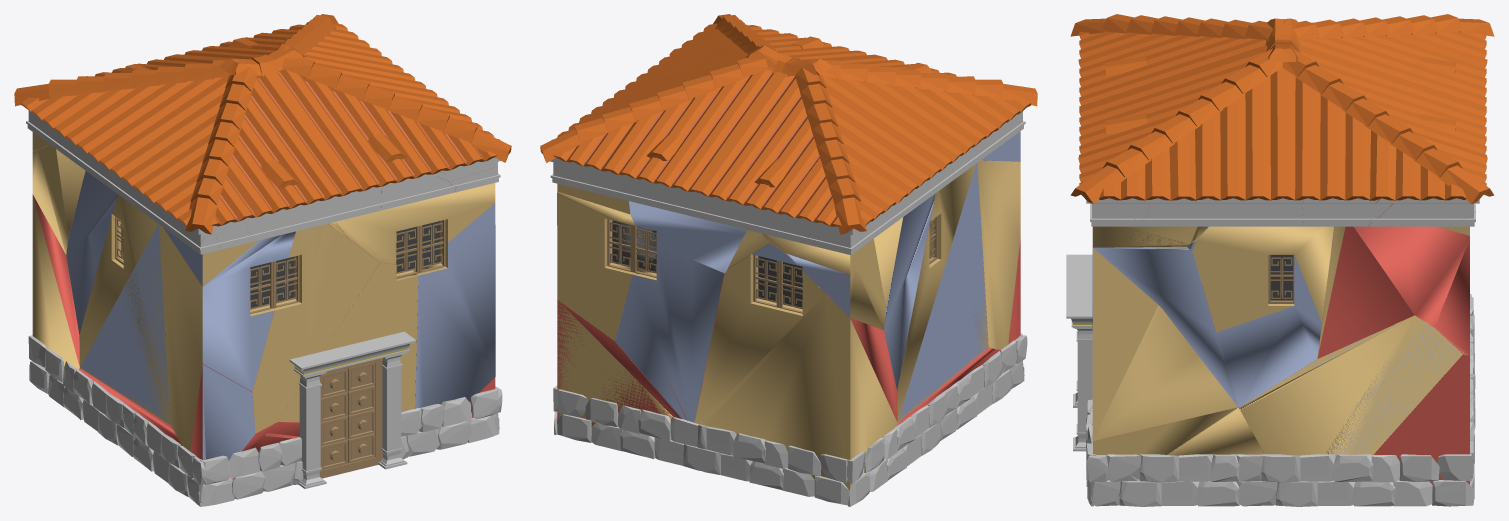
File: Villa_roman_03_fragments.fbx
The picture shows the model from 3 angles, left to right: view 1: azimuth 30°, elevation 25°; view 2: azimuth 150°, elevation 25°; view 3: azimuth 270°, elevation 25°; orthographic projection. The views are drawn at different scales.
Parts seen in each view (by area): view 1: Object245_cell.019, Object245_cell, Object245_cell.008, Object245_cell.026, Object245_cell.004, Object245.093, Object245_cell.014, Object245_cell.010, Object245_cell.023, Object245.240, Object245_cell.020, Object245.241 (+60 smaller); view 2: Object245_cell.010, Object245_cell, Object245_cell.012, Object245_cell.011, Object245_cell.005, Object245_cell.019, Object245.240, Object245_cell.020, Object245_cell.007, Object245_cell.024, Object245.249, Object245.202 (+63 smaller); view 3: Object245_cell.008, Object245_cell.027, Object245_cell.025, Object245_cell.006, Object245.202, Object245_cell.009, Object245_cell.005, Object245_cell.001, Object245.042_cell.001, Object245.214, Object245.203, Object245.240 (+71 smaller).
Boxes of the visible parts, bbox=[...] form: Object245_cell.019: bbox=[159, 225, 295, 451]; Object245_cell: bbox=[79, 194, 170, 425]; Object245_cell.008: bbox=[413, 203, 495, 408]; Object245_cell.026: bbox=[252, 224, 379, 432]; Object245_cell.004: bbox=[278, 262, 418, 422]; Object245.093: bbox=[319, 358, 382, 478]; Object245_cell.014: bbox=[336, 183, 495, 264]; Object245_cell.010: bbox=[32, 194, 165, 376]; Object245_cell.023: bbox=[190, 364, 255, 460]; Object245.240: bbox=[99, 59, 342, 199]; Object245_cell.020: bbox=[66, 171, 123, 334]; Object245.241: bbox=[110, 93, 325, 204]; Object245_cell.010: bbox=[694, 255, 897, 490]; Object245_cell: bbox=[897, 163, 988, 422]; Object245_cell.012: bbox=[615, 245, 724, 422]; Object245_cell.011: bbox=[557, 193, 649, 340]; Object245_cell.005: bbox=[557, 299, 681, 427]; Object245_cell.019: bbox=[977, 160, 1020, 349]; Object245.240: bbox=[708, 59, 952, 200]; Object245_cell.020: bbox=[884, 193, 935, 390]; Object245_cell.007: bbox=[629, 201, 747, 272]; Object245_cell.024: bbox=[785, 239, 885, 329]; Object245.249: bbox=[726, 94, 941, 204]; Object245.202: bbox=[625, 50, 866, 191]; Object245_cell.008: bbox=[1092, 246, 1237, 440]; Object245_cell.027: bbox=[1239, 315, 1462, 455]; Object245_cell.025: bbox=[1192, 226, 1333, 407]; Object245_cell.006: bbox=[1317, 226, 1414, 358]; Object245.202: bbox=[1079, 62, 1486, 200]; Object245_cell.009: bbox=[1354, 226, 1469, 327]; Object245_cell.005: bbox=[1374, 354, 1469, 484]; Object245_cell.001: bbox=[1093, 407, 1264, 479]; Object245.042_cell.001: bbox=[1142, 198, 1303, 226]; Object245.214: bbox=[1295, 76, 1486, 200]; Object245.203: bbox=[1079, 75, 1270, 200]; Object245.240: bbox=[1079, 39, 1486, 105].
Size of the model in its own units: 839 by 870 by 861.
